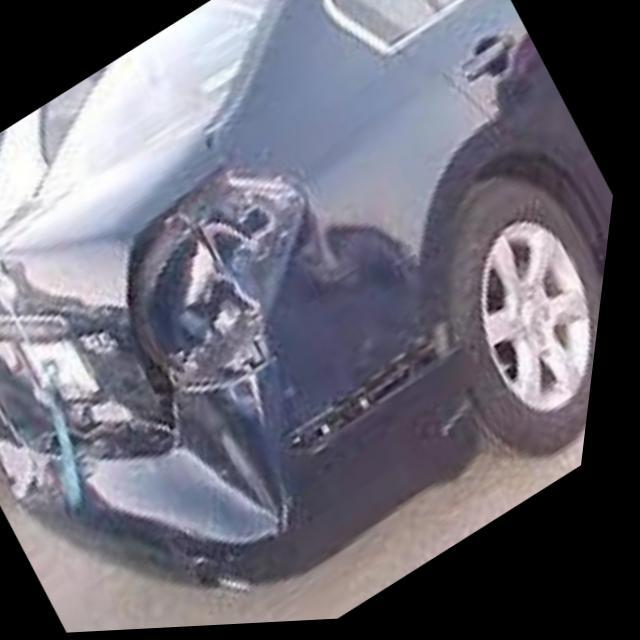dent: (161, 381, 330, 558), (0, 246, 123, 350)
dislocated part: (0, 159, 234, 460), (293, 322, 474, 459)
no part: (137, 173, 314, 387)
